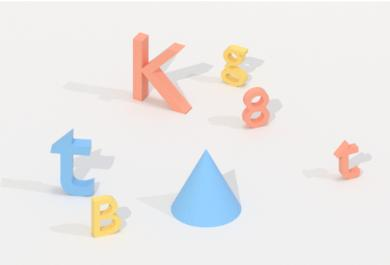0-TamGiac: (165, 144, 245, 231)
8: (240, 83, 271, 132)
B: (88, 191, 124, 242)
K: (129, 27, 197, 119)
g: (218, 41, 252, 91)
t: (46, 123, 99, 200), (330, 134, 365, 185)
